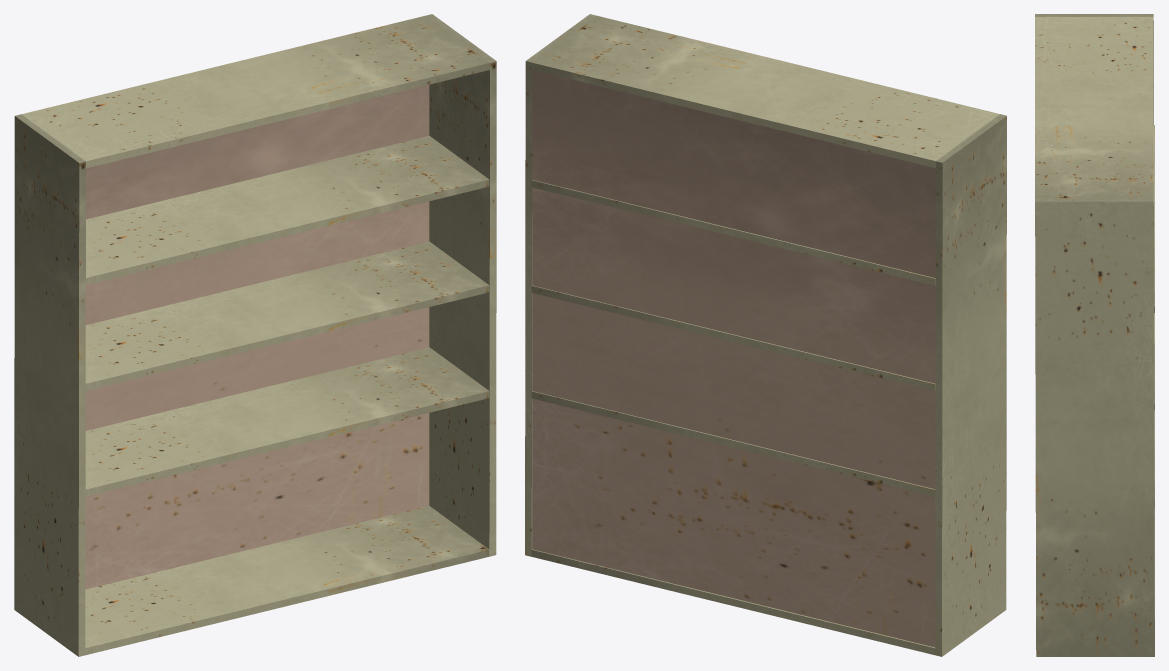
Rendered from cabin01b.fbx.
3 views of the same model, side by side, from view 1: azimuth 30°, elevation 25°; view 2: azimuth 150°, elevation 25°; view 3: azimuth 270°, elevation 25° (orthographic). The views are drawn at different scales.
Visible parts, largest first — view 1: cabin01b; view 2: cabin01b; view 3: cabin01b.
Boxes of the visible parts, left/top/right/bottom form: cabin01b: left=14, top=14, right=496, bottom=656; cabin01b: left=525, top=14, right=1006, bottom=656; cabin01b: left=1035, top=14, right=1154, bottom=656.
Bounding box in the file's own units: 124 × 140 × 33.45.
